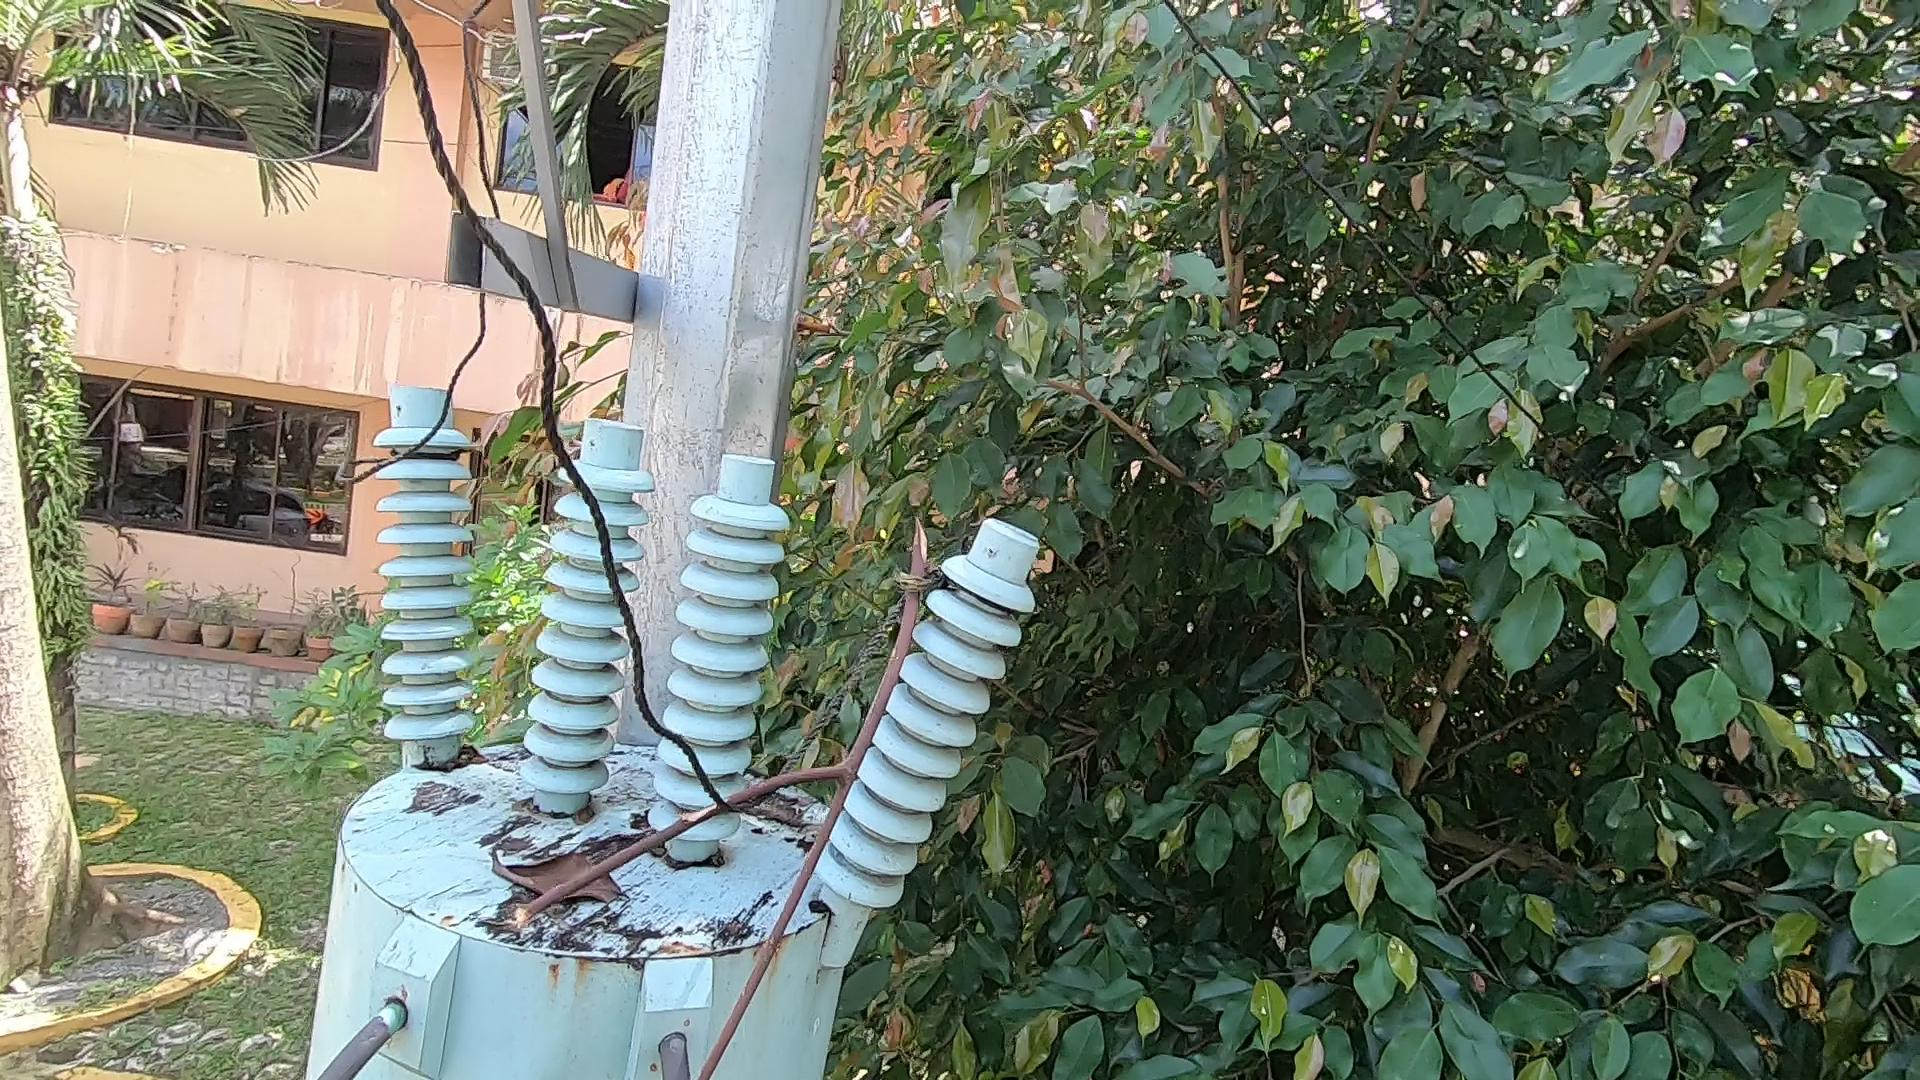leaf: (492, 839, 659, 952)
tree branch: (456, 495, 994, 1080)
